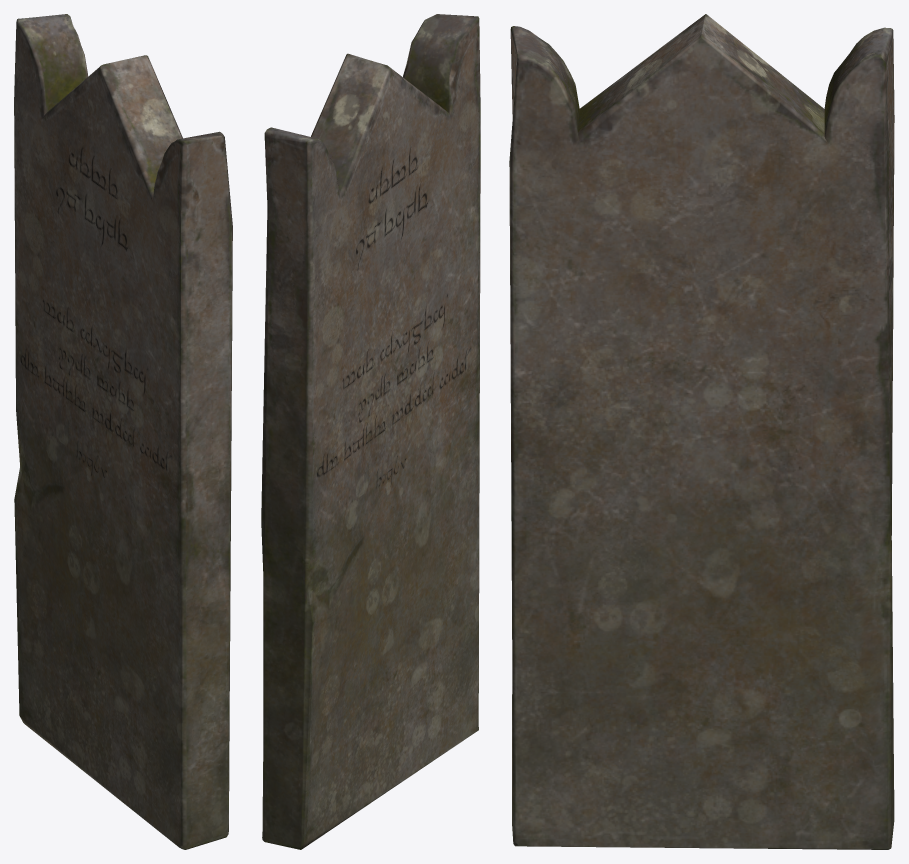
File: SM_TombsA_002.fbx
The picture shows the model from 3 angles, left to right: view 1: azimuth 30°, elevation 25°; view 2: azimuth 150°, elevation 25°; view 3: azimuth 270°, elevation 25°; orthographic projection. The views are drawn at different scales.
Parts seen in each view (by area): view 1: SM_TombsA_002_LOD0; view 2: SM_TombsA_002_LOD0; view 3: SM_TombsA_002_LOD0.
Part boxes in pixels (x1,y1,x2,y2): SM_TombsA_002_LOD0: (14, 14, 232, 849); SM_TombsA_002_LOD0: (261, 14, 480, 849); SM_TombsA_002_LOD0: (509, 14, 894, 849).
Bounding box in the file's own units: 7.47 × 42.06 × 98.02.
1 material, 1 textured.
